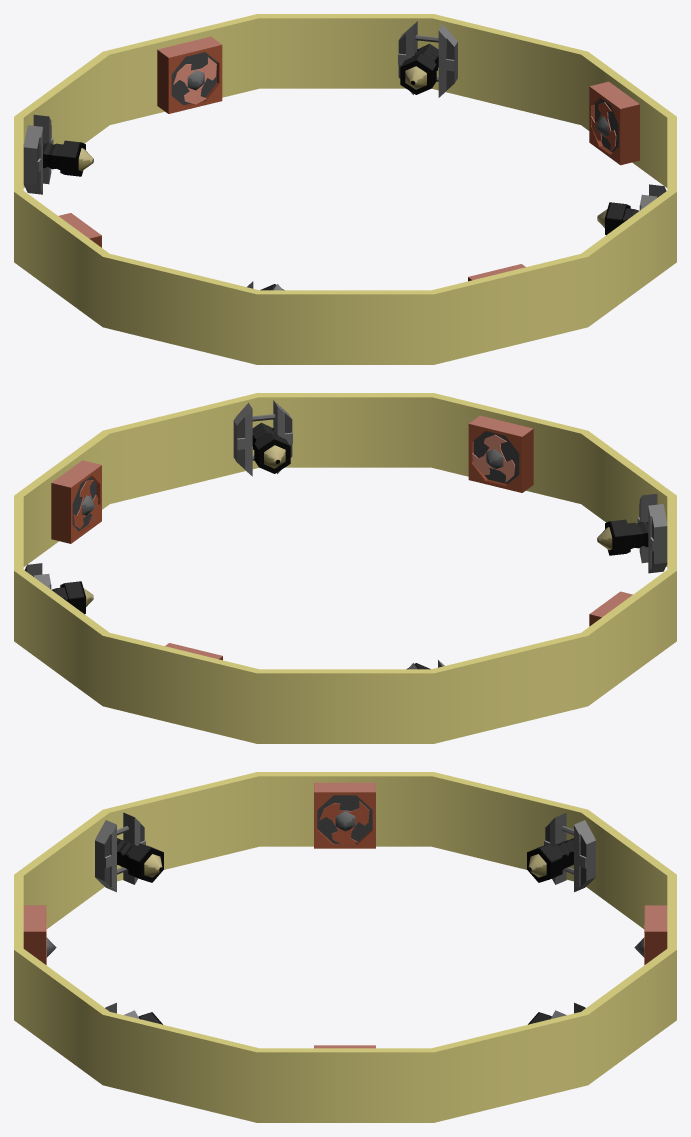
File: Ring.fbx
3 renders of one model, top to bottom at view 1: azimuth 30°, elevation 25°; view 2: azimuth 150°, elevation 25°; view 3: azimuth 270°, elevation 25°, orthographic.
Visible parts, largest first — view 1: ring, fan; view 2: ring, fan .03; view 3: ring, fan.01.
Part boxes in pixels (x1,y1,x2,y2): ring: [14, 14, 676, 364]; fan: [173, 57, 216, 104]; ring: [14, 393, 676, 743]; fan .03: [472, 434, 515, 482]; ring: [14, 772, 676, 1122]; fan.01: [319, 801, 369, 845].
Size of the model in its own units: 0.1435 by 1.22 by 1.22.
